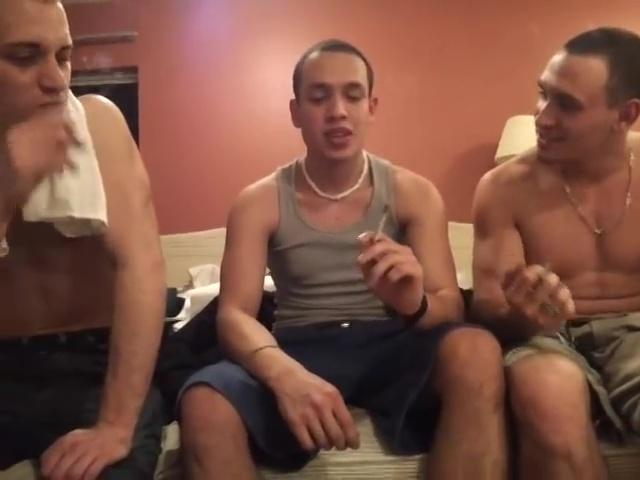cigarette: (368, 203, 393, 248)
